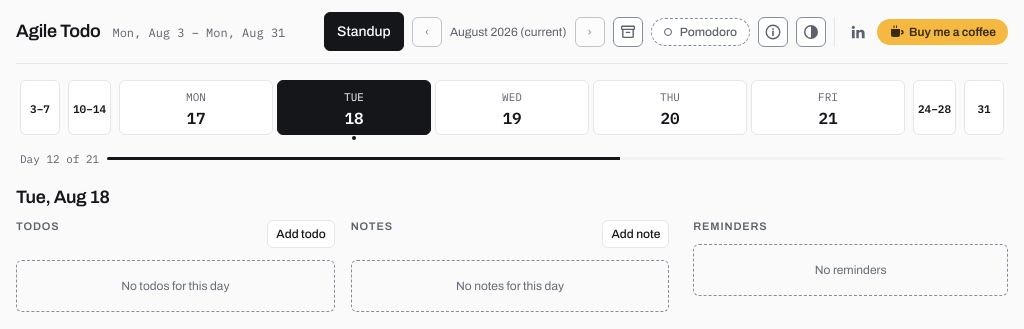
Scenario: App shell › clicking a folded week expands it and navigates to its first day
Click the button named "24–28 — ": (934, 107) [913,80,956,134]
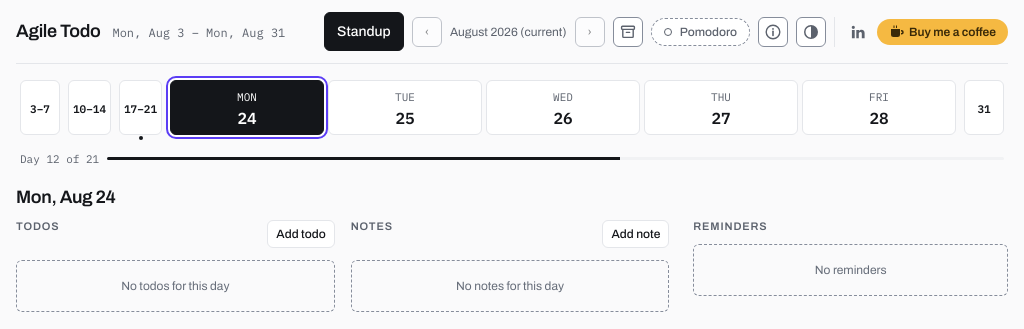
Expected: the button with aria-label "Mon 24 — " is shown, [170,80,324,134]
Expected: the heading "Mon, Aug 24" is shown, [16,187,116,207]
